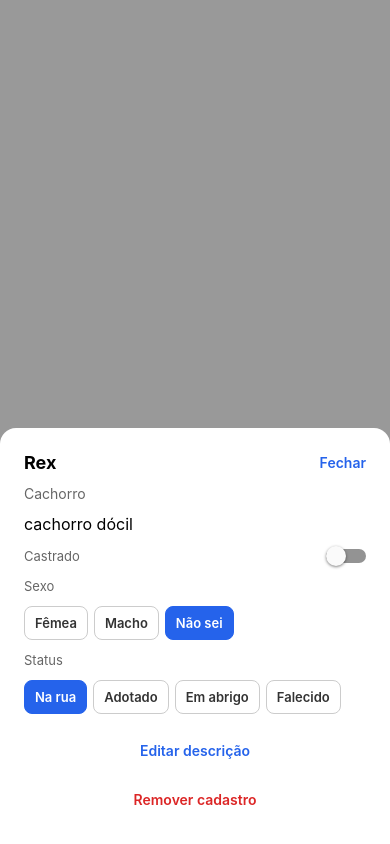
Scenario: AnimalDetailModal › shows an error if the confirmed delete fails
Step 1. Click the text "Remover cadastro" → x=195, y=800, box top-left (134, 791), bottom-right (256, 808)
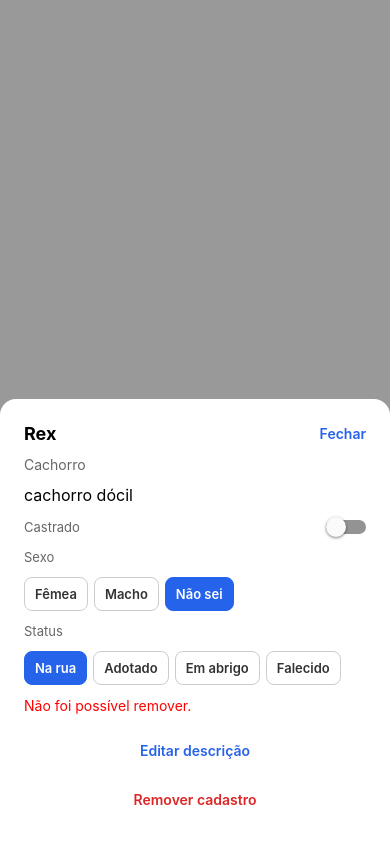
Now the text "Não foi possível remover." is shown, box top-left (24, 697), bottom-right (191, 714)
